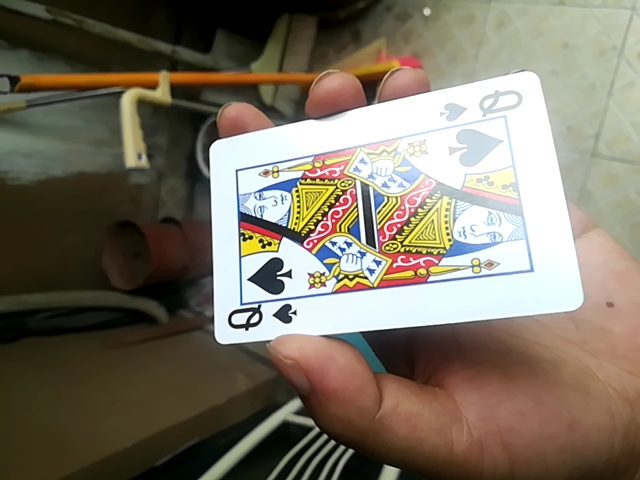ht q: (199, 75, 588, 350)
